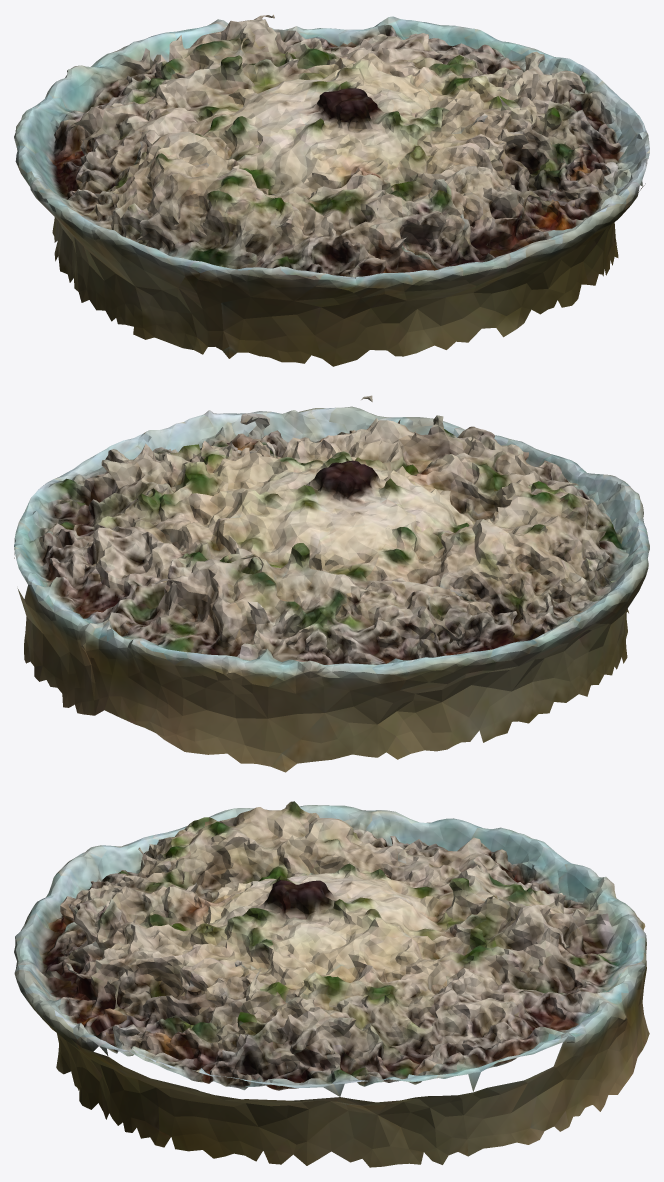
File: murgmusallam-final.glb
3 renders of one model, top to bottom at view 1: azimuth 30°, elevation 25°; view 2: azimuth 150°, elevation 25°; view 3: azimuth 270°, elevation 25°, orthographic.
Bounding box in the file's own units: 0.3065 × 0.0877 × 0.3021.
1 material, 1 textured.
